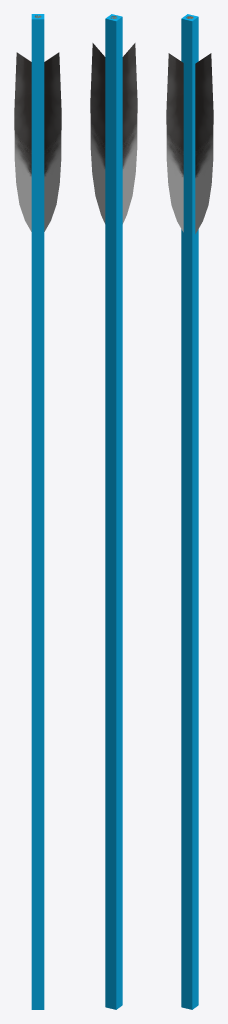
The model's file is JWC_Arrow_A_02.fbx.
3 views of the same model, side by side, from view 1: azimuth 90°, elevation 25°; view 2: azimuth 150°, elevation 25°; view 3: azimuth 330°, elevation 25° (orthographic).
Visible parts, largest first — view 1: C_JWC_Arrow_A_02, JWC_Arrow_A_02; view 2: C_JWC_Arrow_A_02, JWC_Arrow_A_02; view 3: C_JWC_Arrow_A_02, JWC_Arrow_A_02.
Boxes of the visible parts, x1,y1,x2,y2 form: C_JWC_Arrow_A_02: [31, 14, 44, 1009]; JWC_Arrow_A_02: [14, 15, 61, 231]; C_JWC_Arrow_A_02: [105, 14, 122, 1009]; JWC_Arrow_A_02: [90, 16, 137, 223]; C_JWC_Arrow_A_02: [181, 14, 198, 1009]; JWC_Arrow_A_02: [166, 16, 213, 233].
Size of the model in its own units: 0.0394 by 1.05 by 0.0455.
